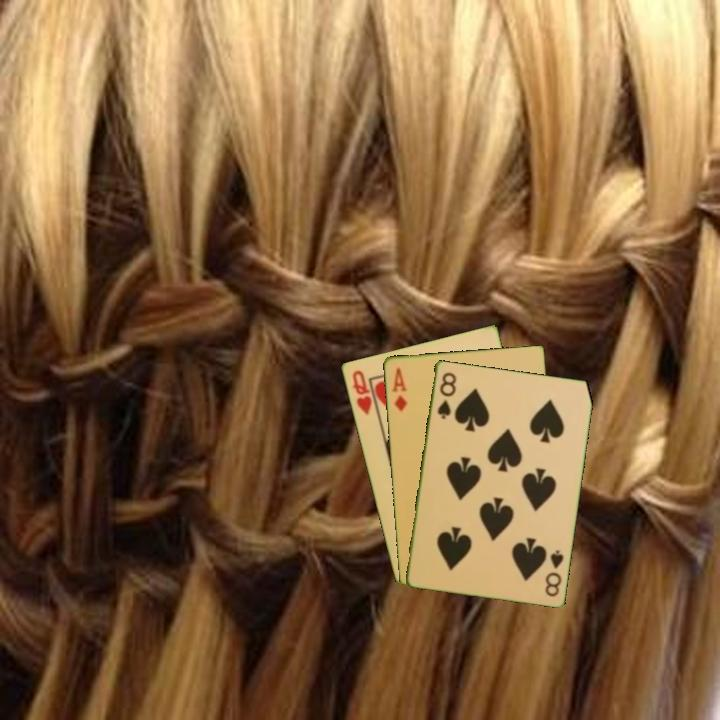8s: (434, 369, 459, 422), (541, 546, 566, 599)
Ad: (388, 364, 410, 414)
Qh: (348, 366, 374, 418)
